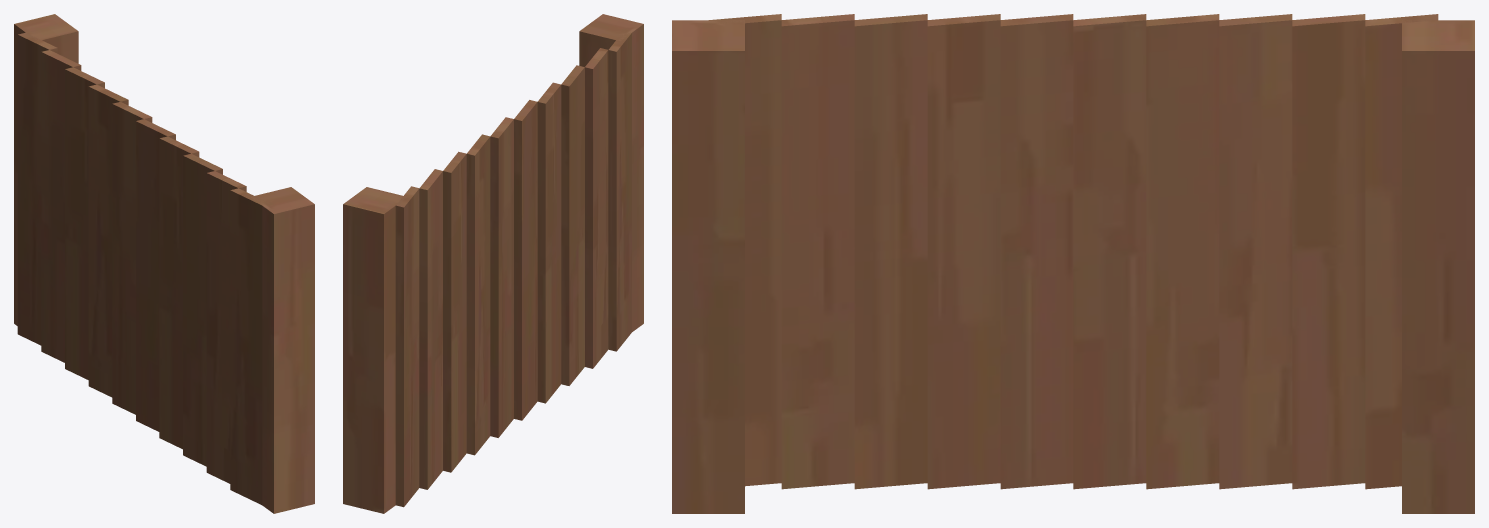
File: wooden_fence.glb
3 views of the same model, side by side, from view 1: azimuth 30°, elevation 25°; view 2: azimuth 150°, elevation 25°; view 3: azimuth 270°, elevation 25° (orthographic). The views are drawn at different scales.
Visible parts, largest first — view 1: Fence_standardSurface1_0; view 2: Fence_standardSurface1_0; view 3: Fence_standardSurface1_0.
Boxes of the visible parts, box(x1,y1,x2,y2) form: Fence_standardSurface1_0: box(14, 14, 314, 513); Fence_standardSurface1_0: box(343, 14, 643, 513); Fence_standardSurface1_0: box(672, 14, 1474, 513).
Size of the model in its own units: 0.12 by 0.7 by 1.1.
1 material, 1 textured.
